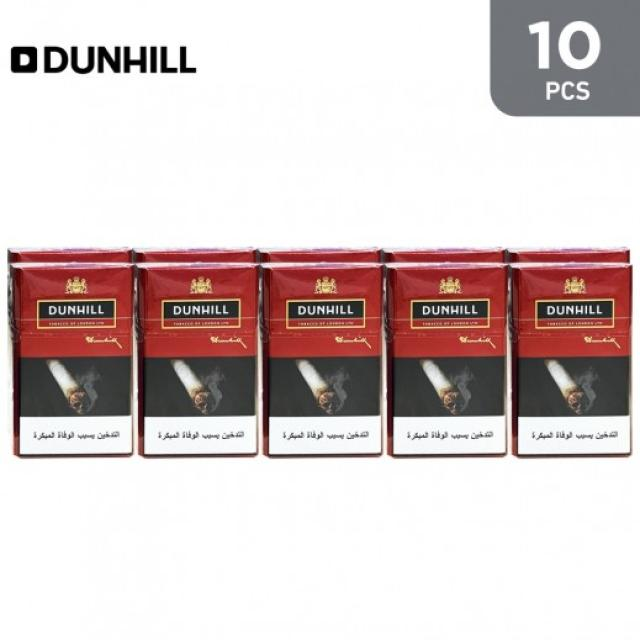dunhill: (3, 252, 138, 454), (132, 254, 263, 456), (504, 248, 630, 457), (378, 254, 504, 453), (264, 254, 382, 456)
